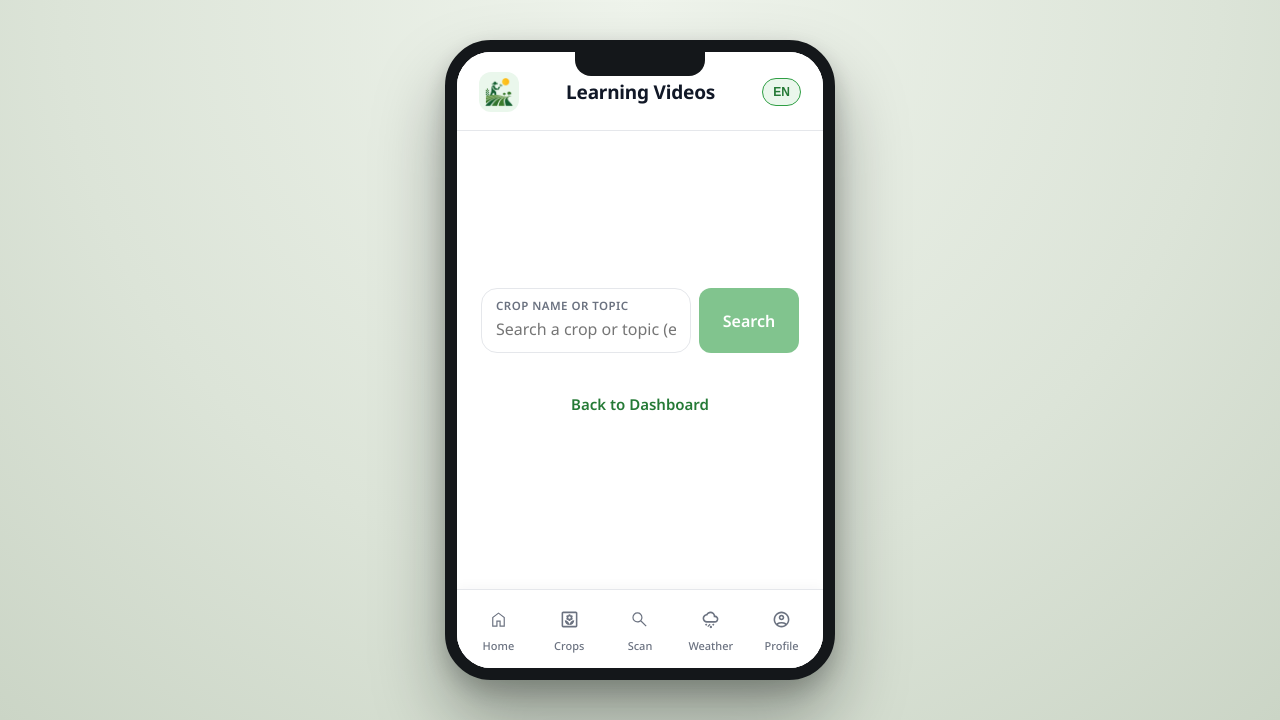
Test: VideosPage › shows a plain-language message for a nonsense/empty-result query without crashing
This screenshot has width=1280, height=720.
In the field with placeholder "Search a crop or topic (e.g. Arecanut bud rot)": {"x": 586, "y": 329} [496, 316, 676, 342], type "asdkjhaskjdh"
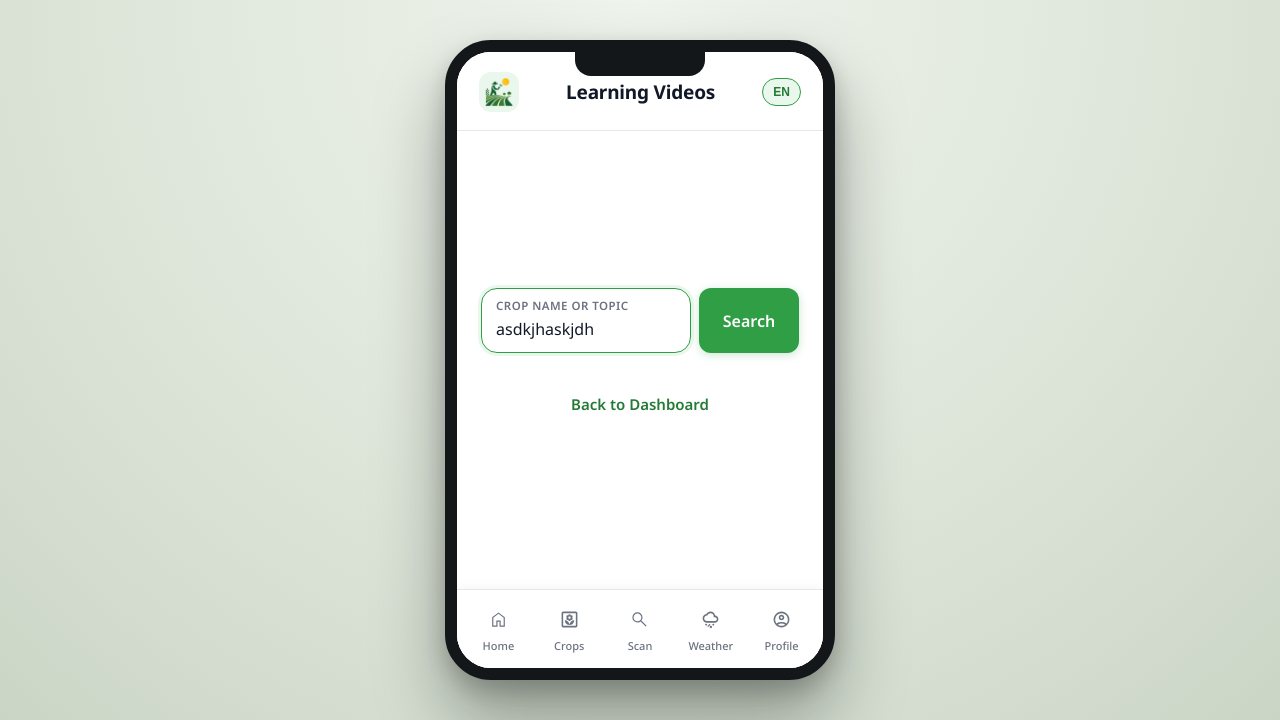
Click the button "Search": {"x": 749, "y": 321} [699, 288, 799, 353]
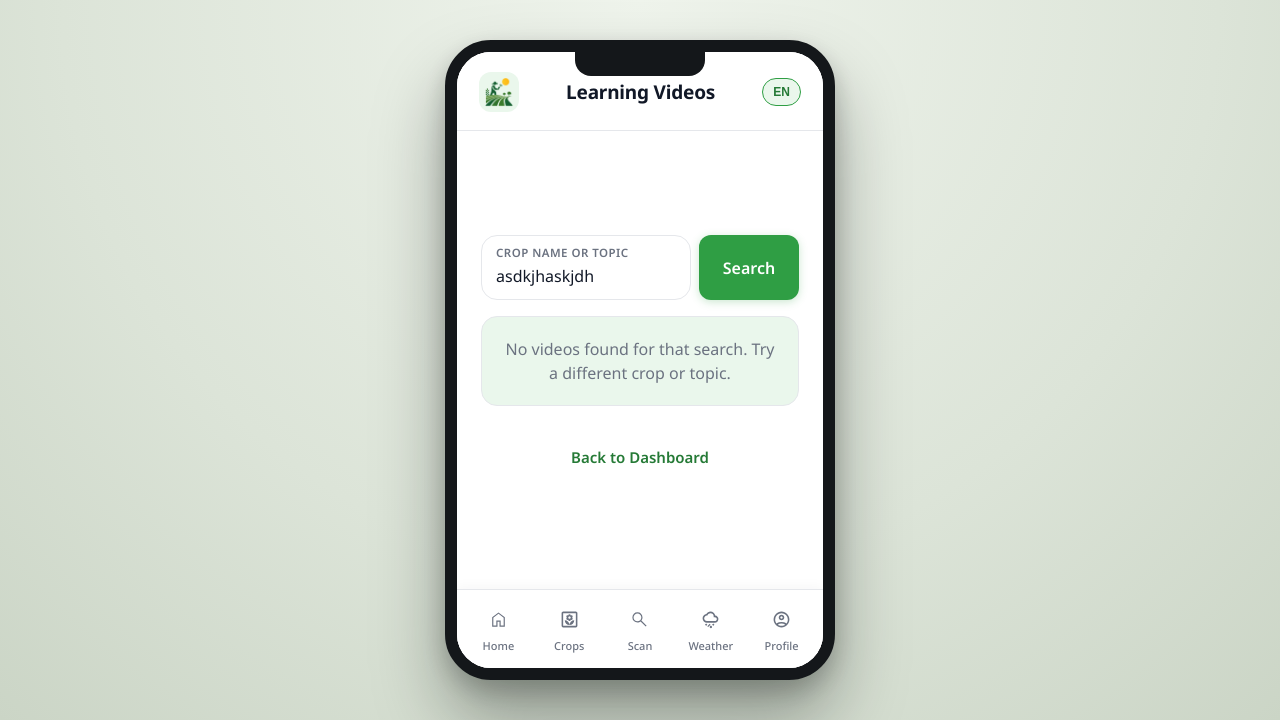
Result: the text "No videos found" is shown at [506, 338, 774, 384]
